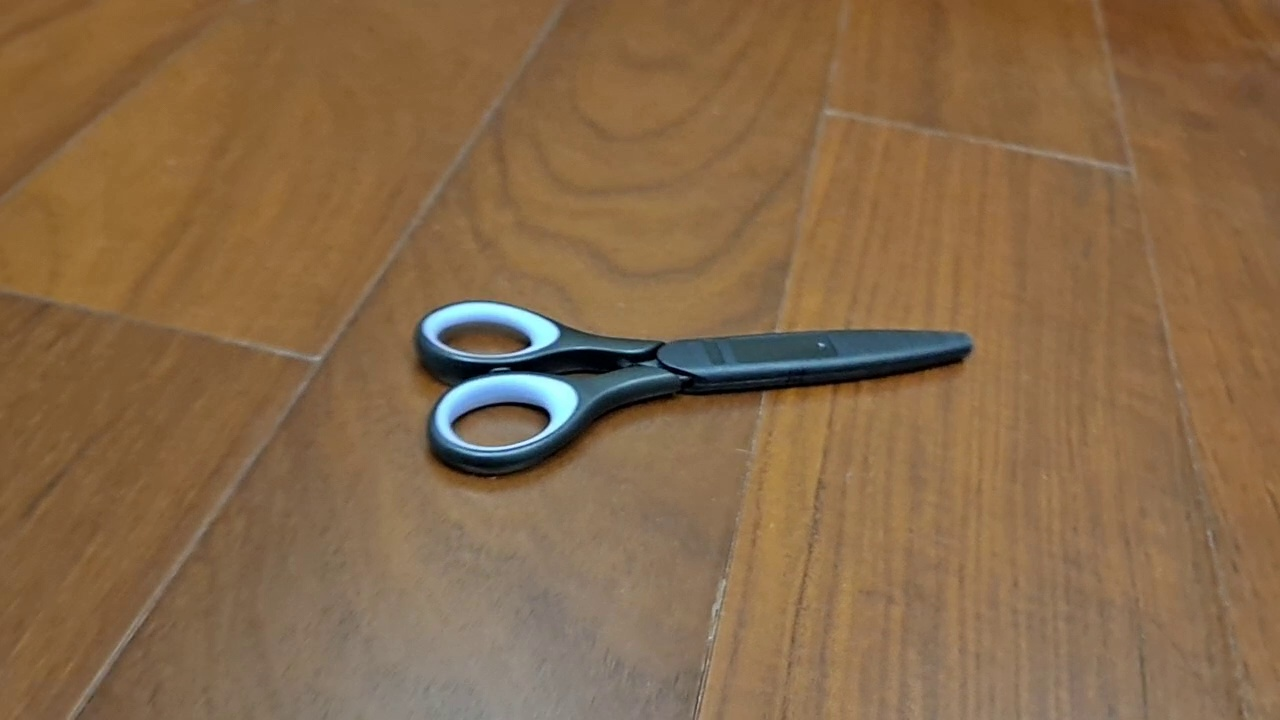scissors: (413, 299, 974, 478)
